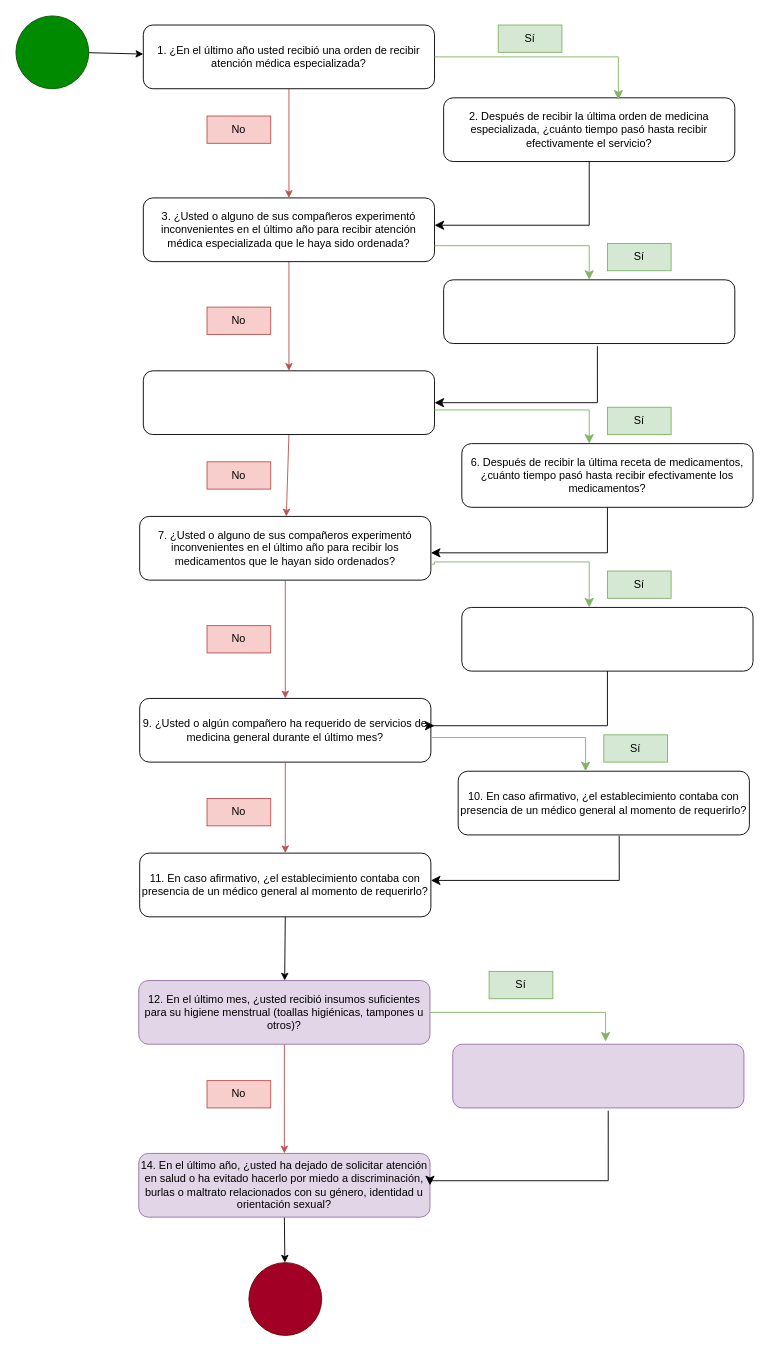
This 769x1351 diagram has some shape labels left out. The centre of each missing label's shape, as x and y in pixels:
"13. Cuando no recibió insumos suficientes, ¿cuál fue la principal razón?" belongs at (x=598, y=1075).
"4. ¿Cuáles inconvenientes tuvo?" belongs at (x=589, y=311).
"5. ¿En el último año usted recibió una receta de medicamentos?" belongs at (x=288, y=402).
"8. ¿Cuáles inconvenientes tuvo?" belongs at (x=607, y=639).
"Fin" belongs at (x=285, y=1298).
"Salud" belongs at (x=52, y=52).
